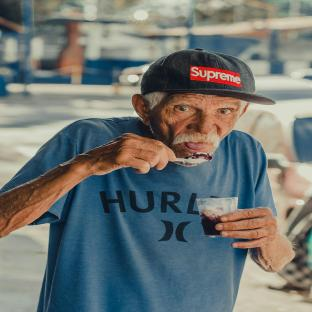Human: (0, 49, 294, 312)
